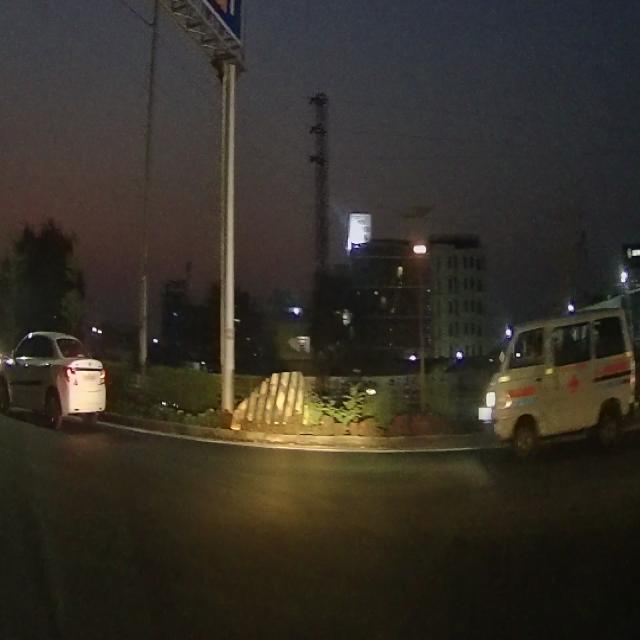car ahead at: (477, 295, 638, 466), (1, 324, 112, 435)
electric pole ahead at: (212, 56, 246, 438)
